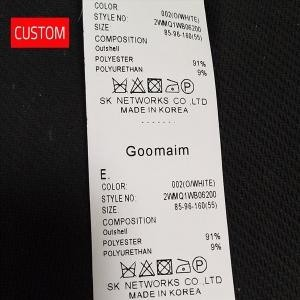ER_dry_clean_chemical: (180, 78, 196, 95)
ER_iron_low_temp: (164, 77, 179, 94)
ER_no_bleach: (130, 77, 147, 94)
ER_no_tumble_dry: (146, 76, 163, 94)
ER_no_wash: (111, 77, 129, 94)
